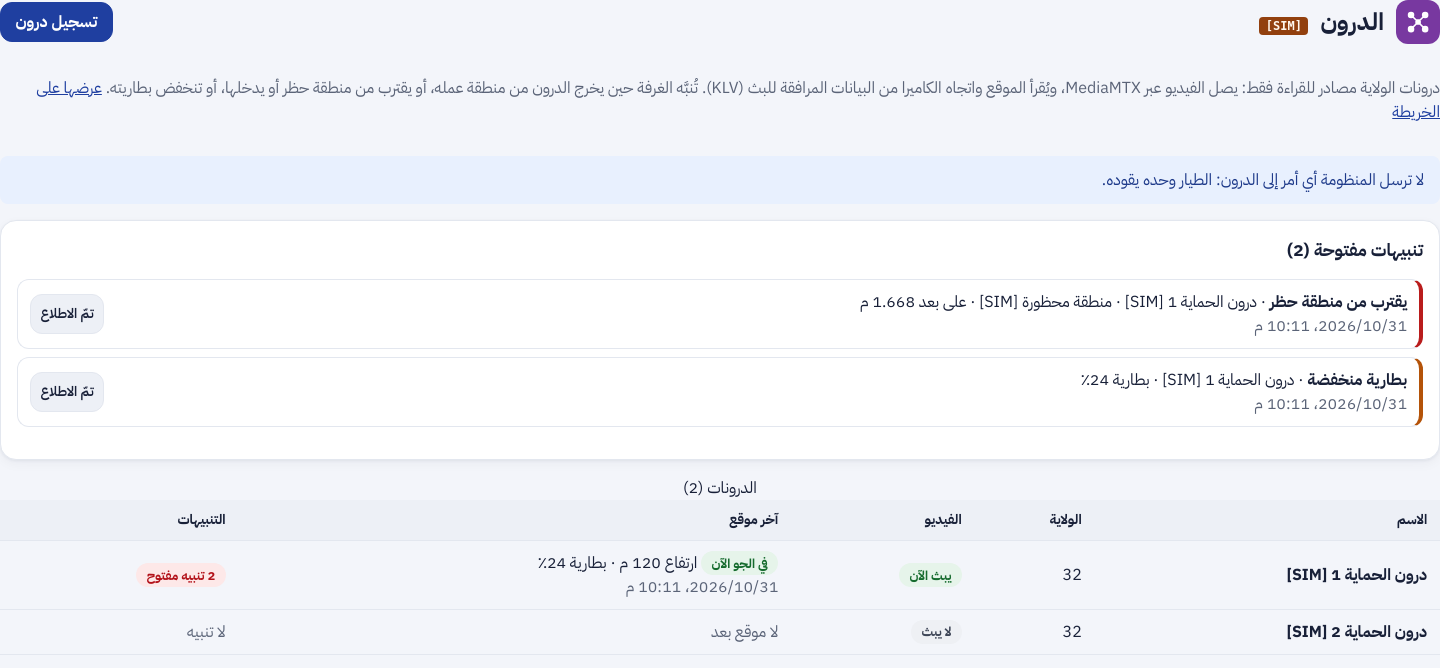
Test: DronesPage › lets the operations manager register a drone and shows its token once
Click the button "تسجيل درون" at (56,22), box [0,2,113,42]
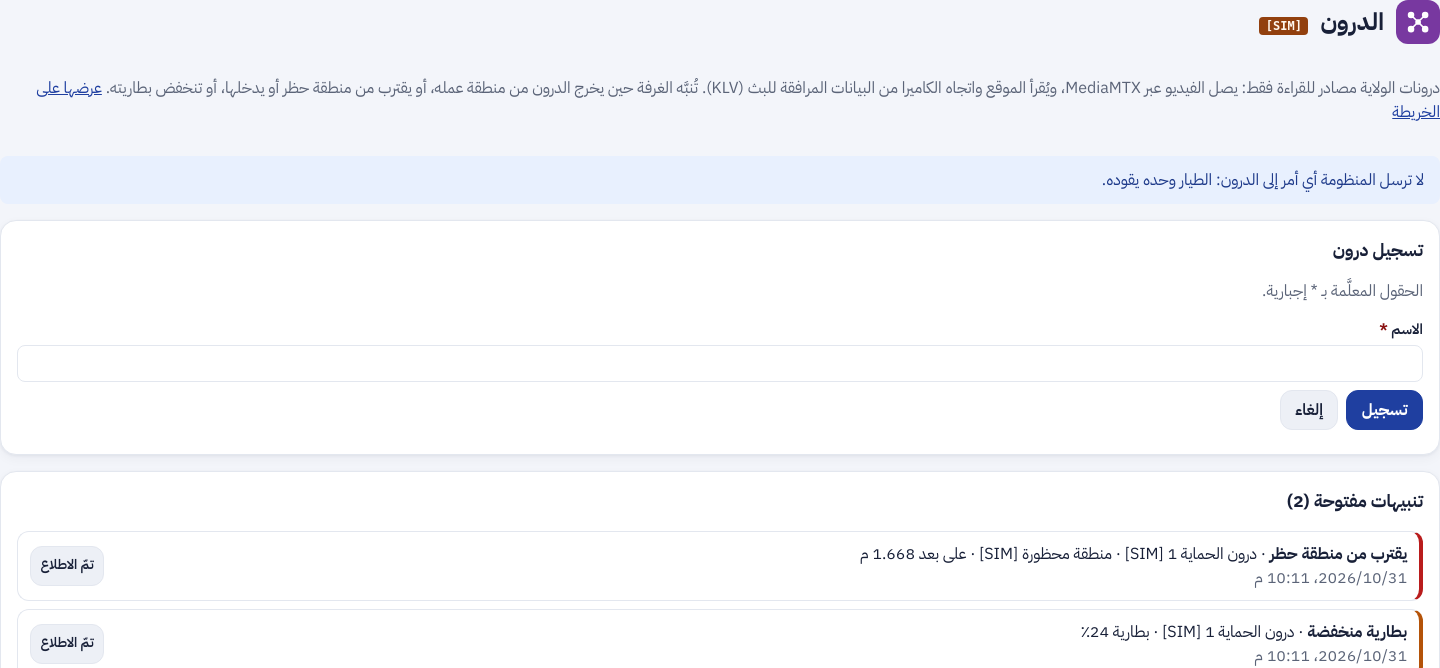
Click the button "تسجيل" at (1385,410), box [1346,390,1423,430]
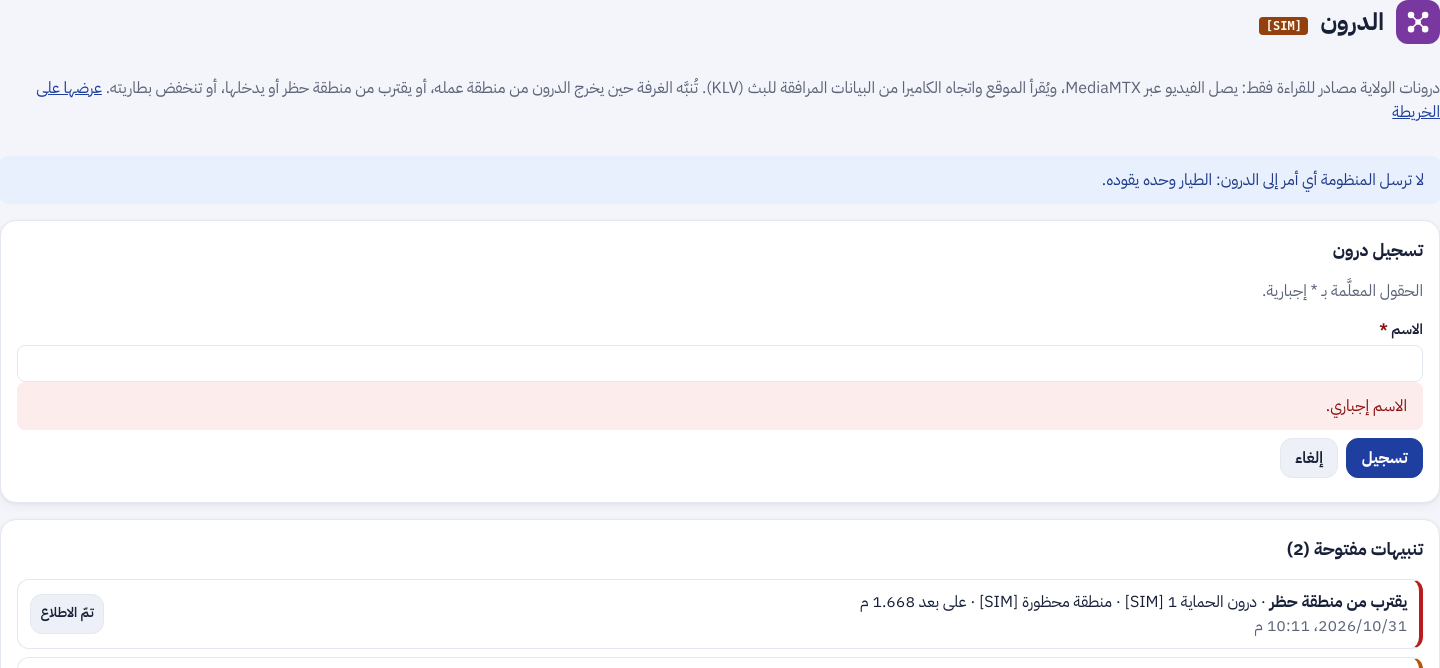
expect the message reads "الاسم إجباري.": met, box [1326,394,1407,418]
Type "درون جديد" into the field labelled "الاسم" at (720,364), box [17,345,1423,382]
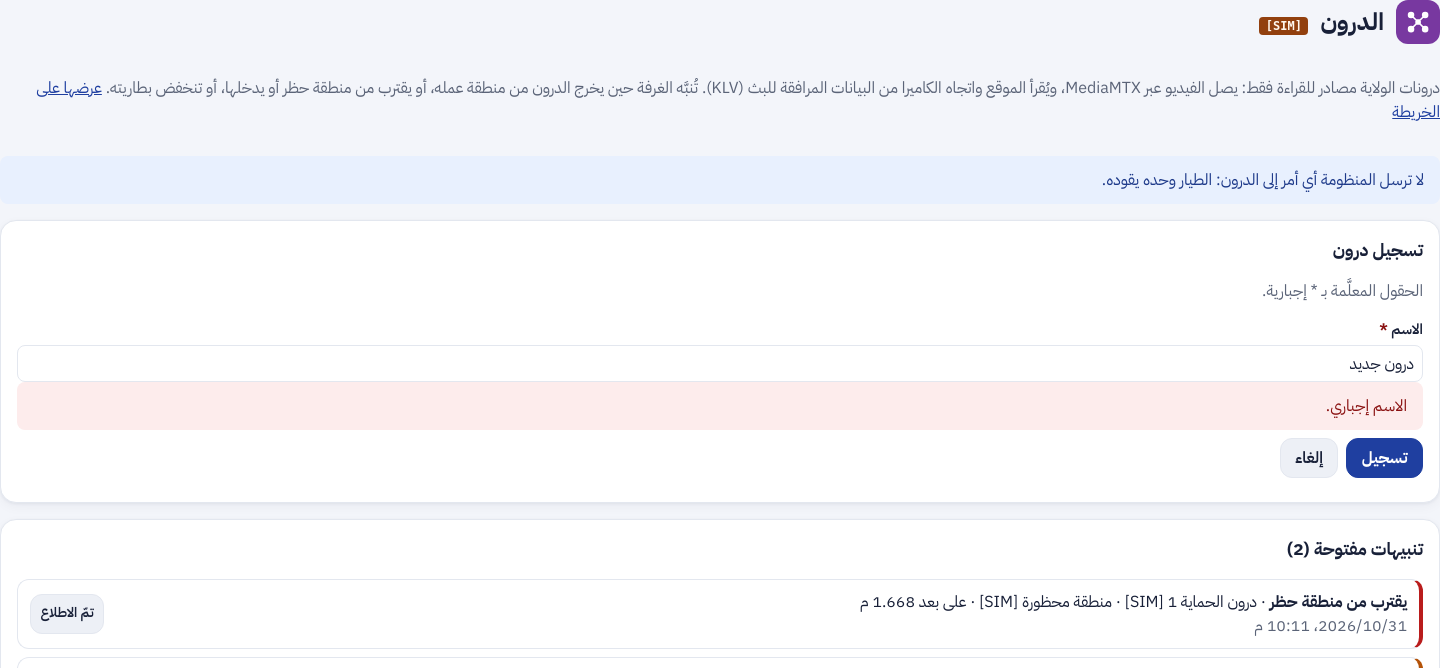
Click the button "تسجيل" at (1385,458), box [1346,438,1423,478]
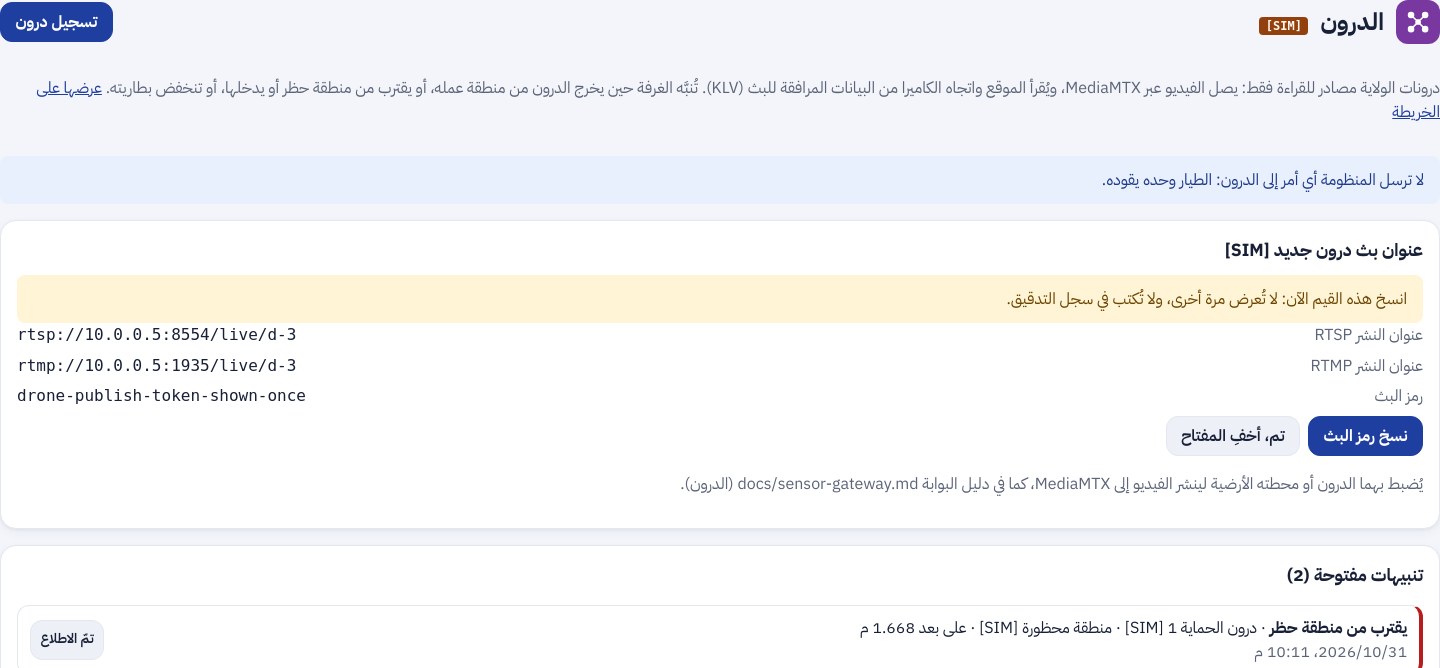
Click the button "تم، أخفِ المفتاح" at (1233,436), box [1166,416,1300,456]
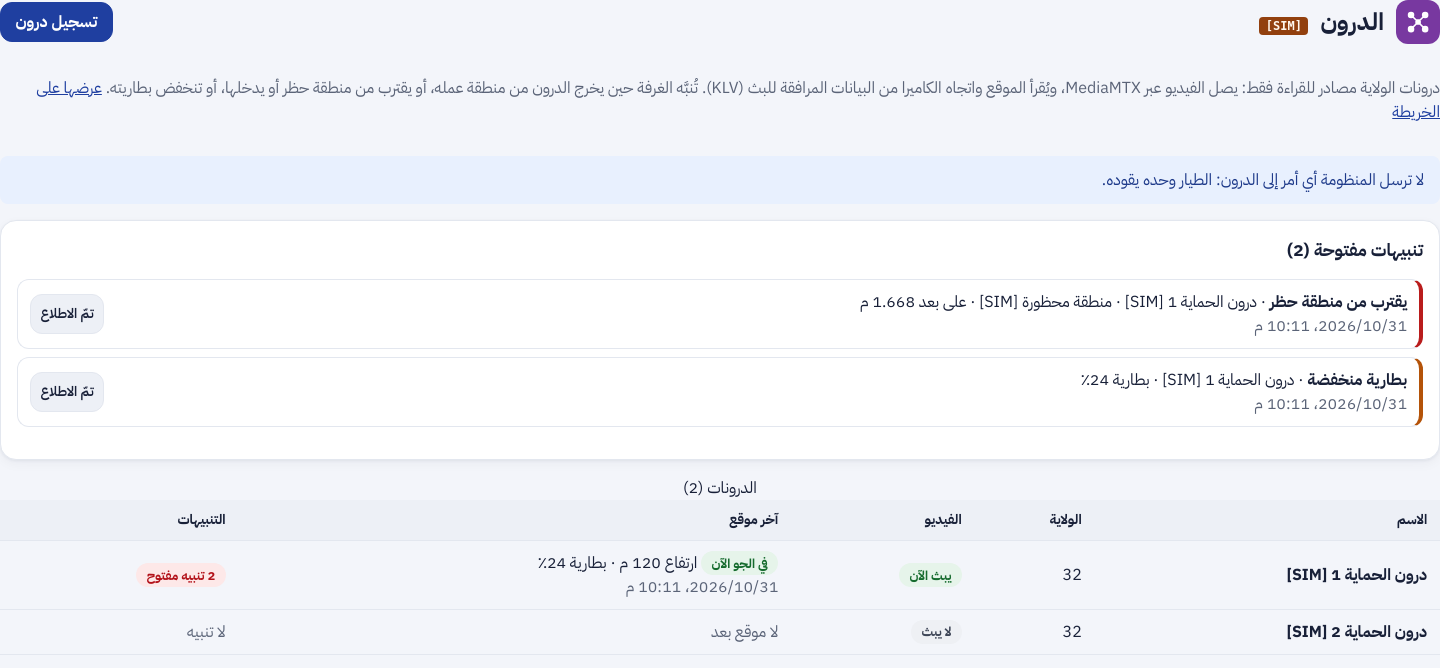
expect the text "drone-publish-token-shown-once" is gone: met
